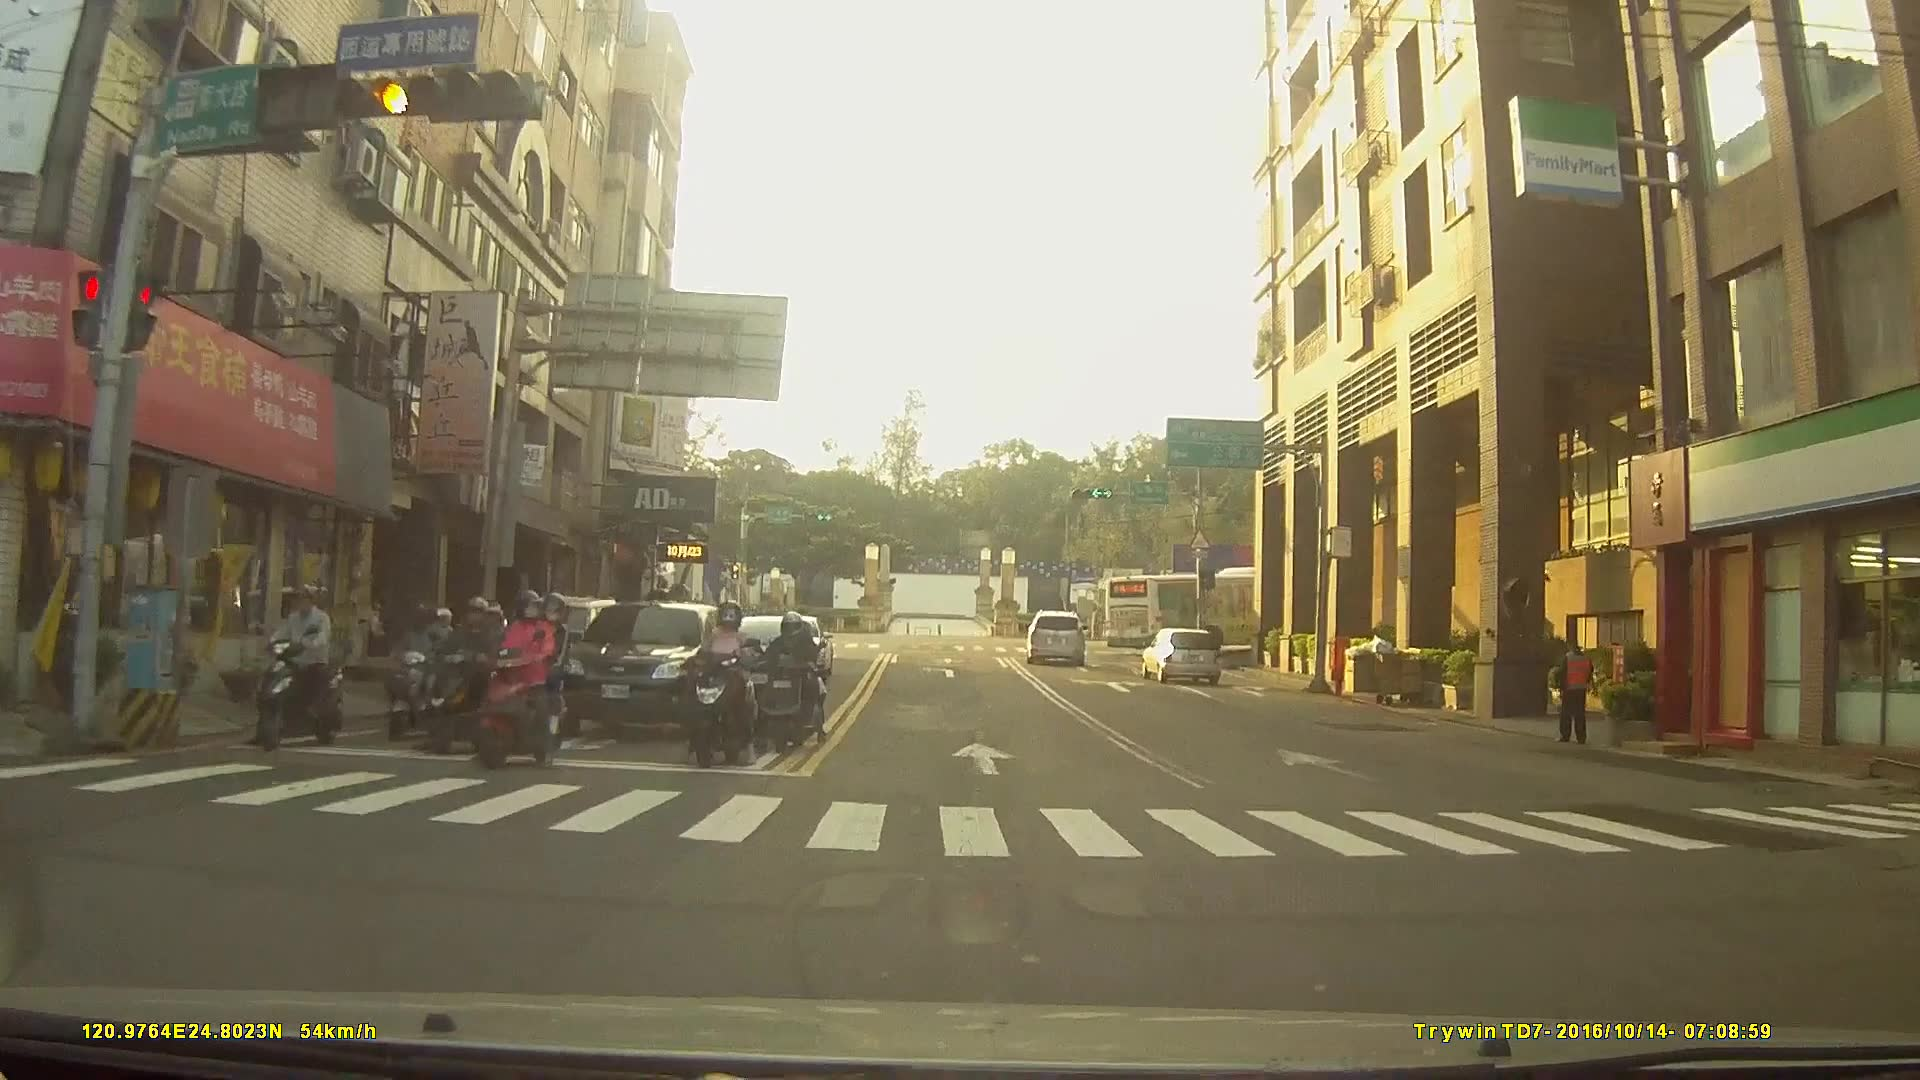pedestrian: (1548, 635, 1605, 751)
rider: (471, 588, 572, 771), (416, 590, 507, 756), (256, 586, 346, 751), (687, 602, 769, 766), (387, 604, 469, 739), (751, 612, 823, 753)
vehicle: (549, 596, 736, 736), (1103, 560, 1310, 658), (1139, 626, 1221, 684), (1023, 606, 1084, 661)
